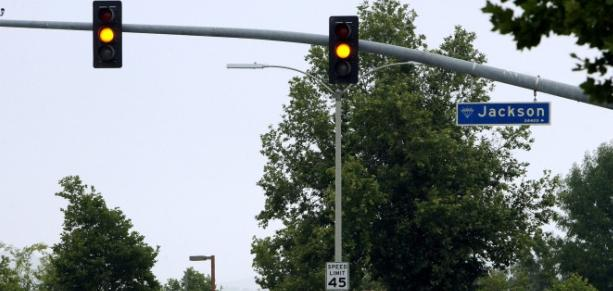yellow_light: (329, 15, 359, 83), (93, 0, 122, 68)
